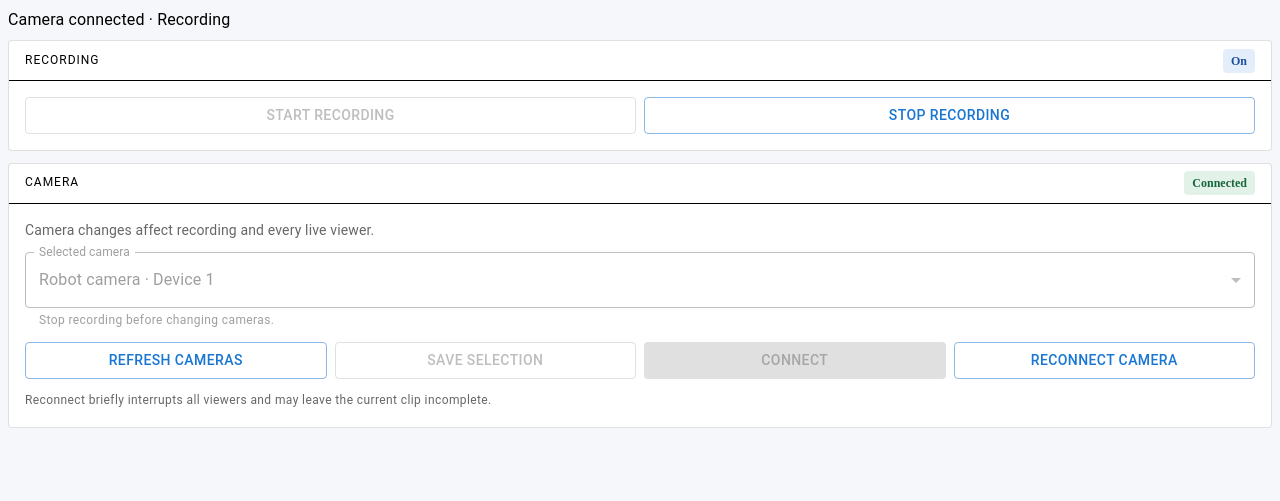
Test case: preserves selection after an operation error and explains recording locks
Expected: the text "Camera connected · Recording" is shown, [8,10,230,29]
Expected: the text "Stop recording before changing cameras." is shown, [39,312,274,326]
Click the button "Reconnect camera" at (1104, 361), box [954,342,1255,379]
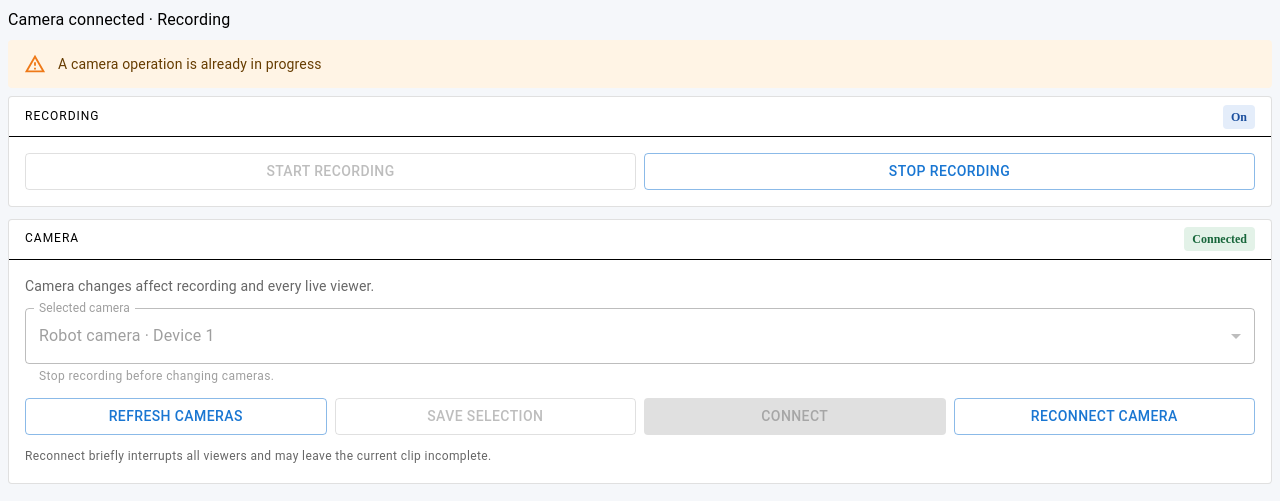
Expected: the dropdown shows "Robot camera", [39,326,215,345]
Now the text "A camera operation is already in progress" is shown, box [58,56,322,72]
